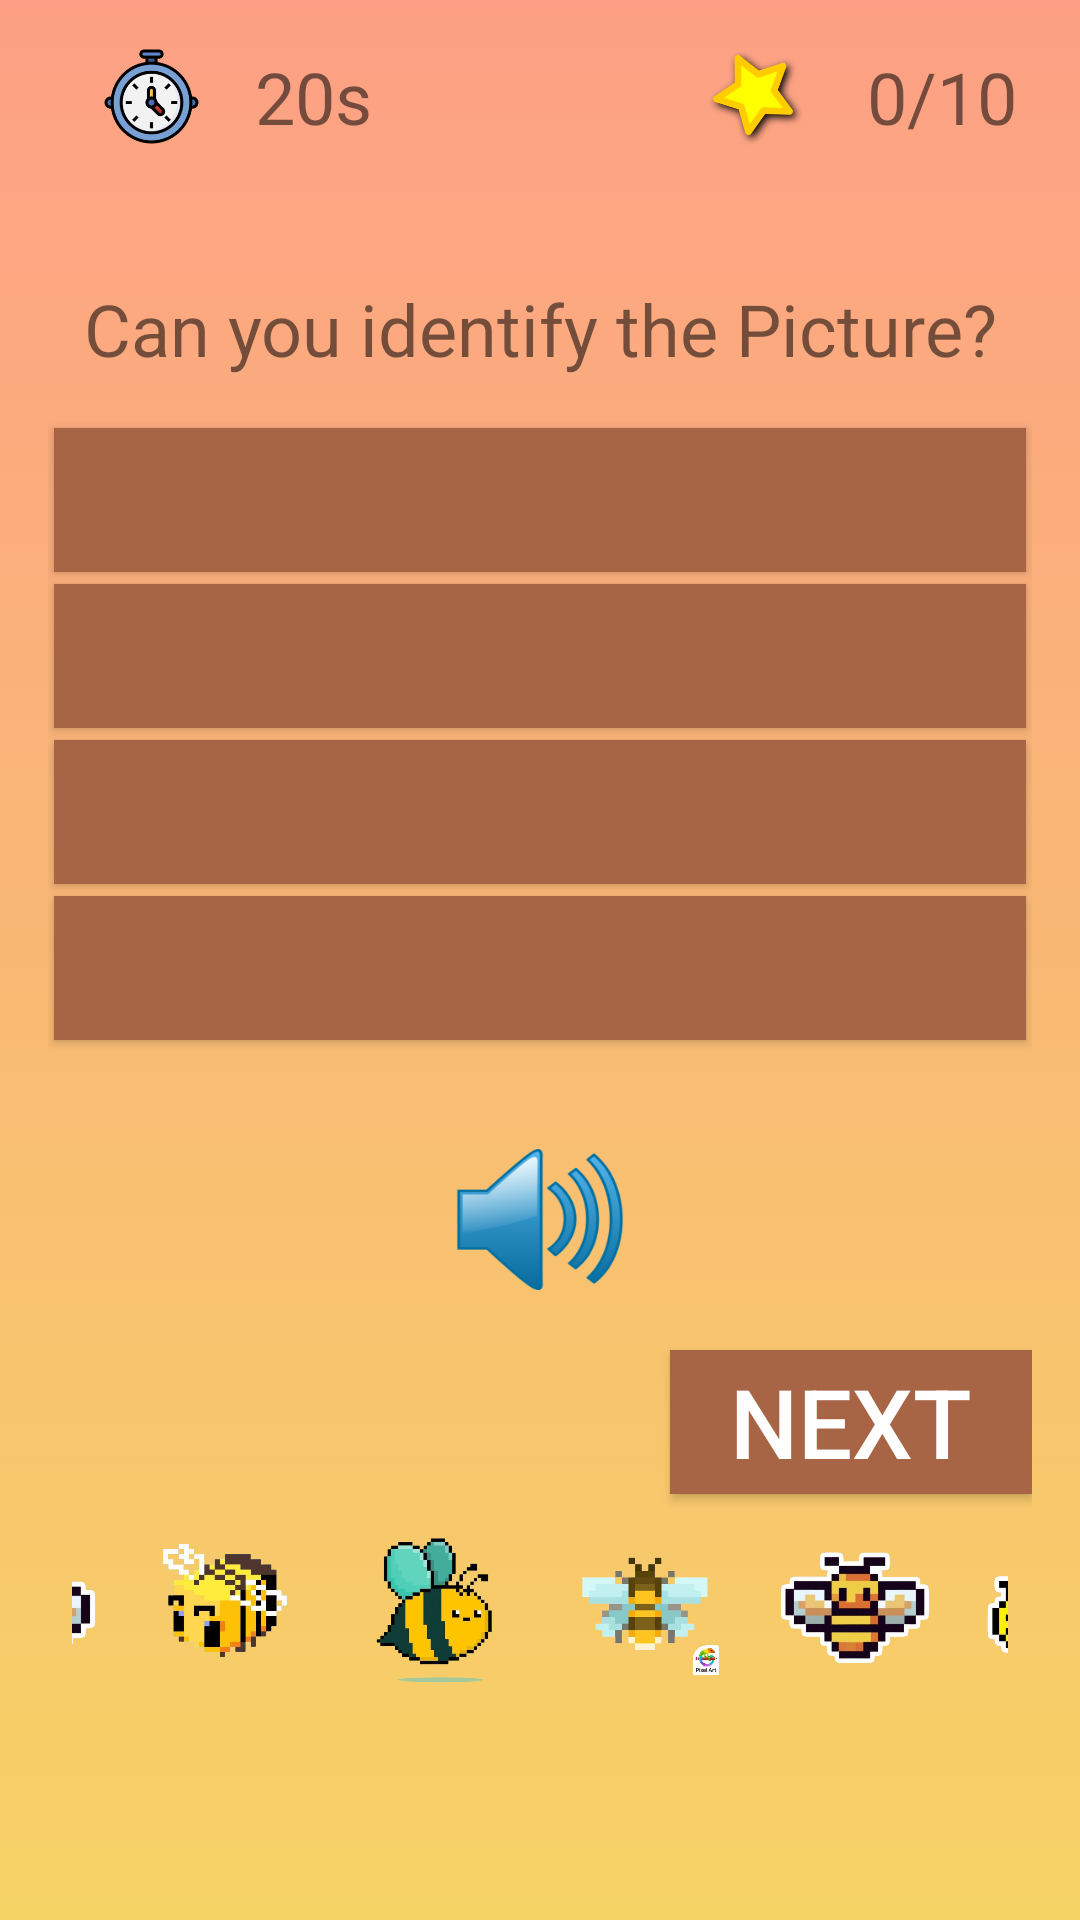

Icons on this 1080w x 1920h Android screen, each with the point to tap as (x=x, y=y):
sound: (x=540, y=1219)
star: (x=755, y=98)
stopwatch: (x=151, y=96)
